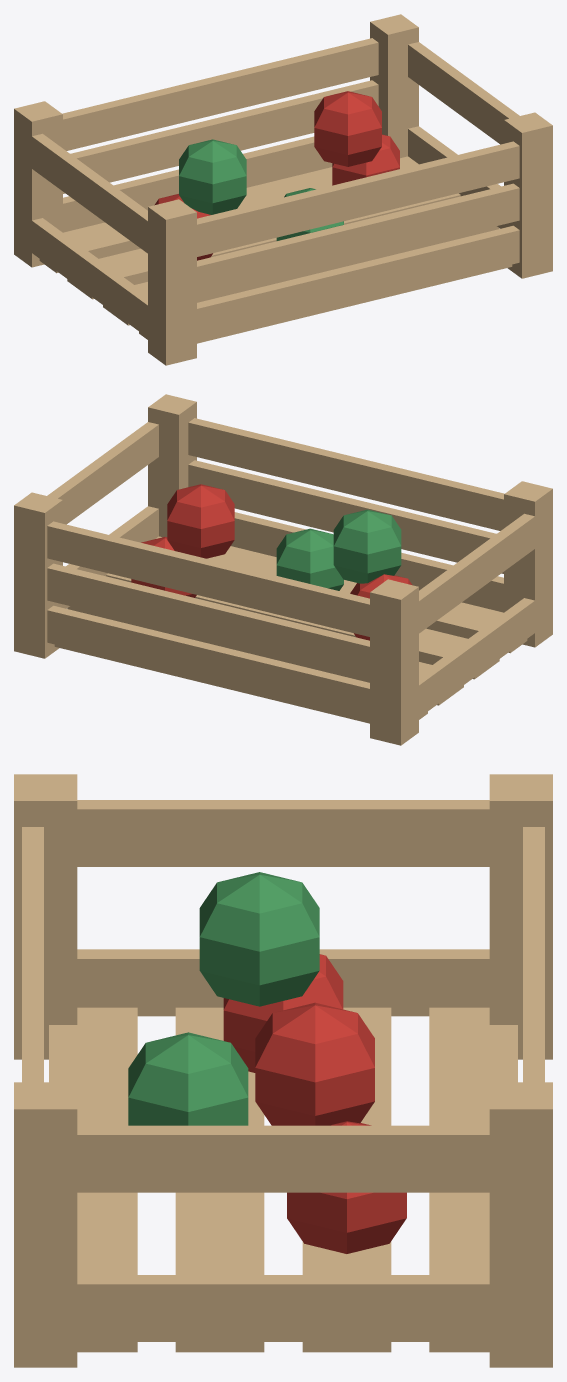
File: FN_Crate_Fruit.glb
3 renders of one model, top to bottom at view 1: azimuth 30°, elevation 25°; view 2: azimuth 150°, elevation 25°; view 3: azimuth 270°, elevation 25°, orthographic. The views are drawn at different scales.
Parts seen in each view (by area): view 1: FN_Crate_Fruit; view 2: FN_Crate_Fruit; view 3: FN_Crate_Fruit.
Part boxes in pixels (x1=…): FN_Crate_Fruit: x1=14, y1=14, x2=552, y2=365; FN_Crate_Fruit: x1=14, y1=394, x2=552, y2=745; FN_Crate_Fruit: x1=14, y1=774, x2=552, y2=1367.
Size of the model in its own units: 0.5 by 0.18 by 0.34.
1 material, 1 textured.
